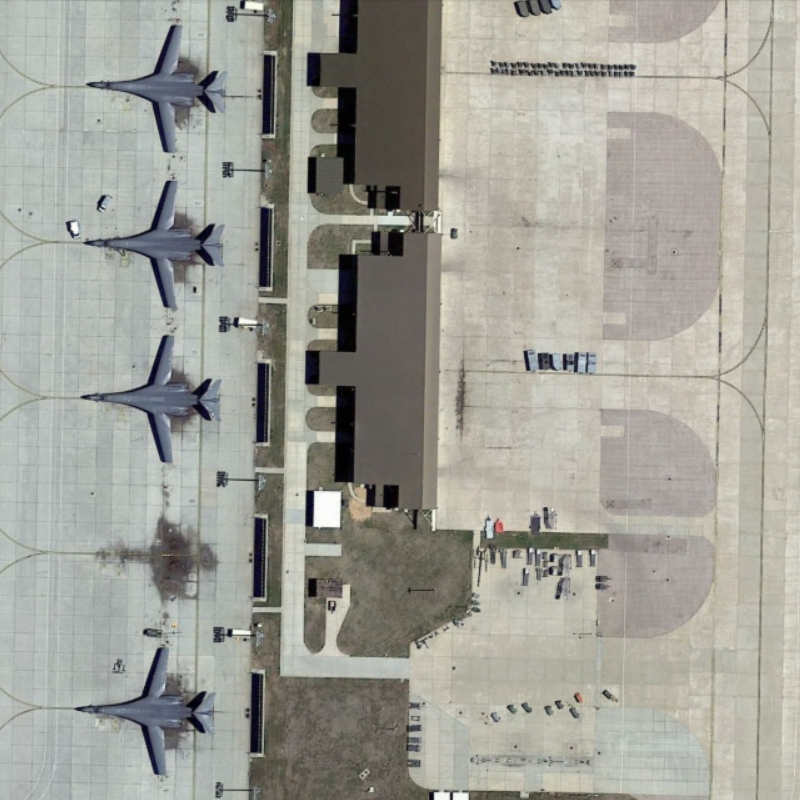A10: (68, 633, 227, 787), (81, 16, 236, 160), (71, 324, 224, 468), (79, 171, 226, 314)
